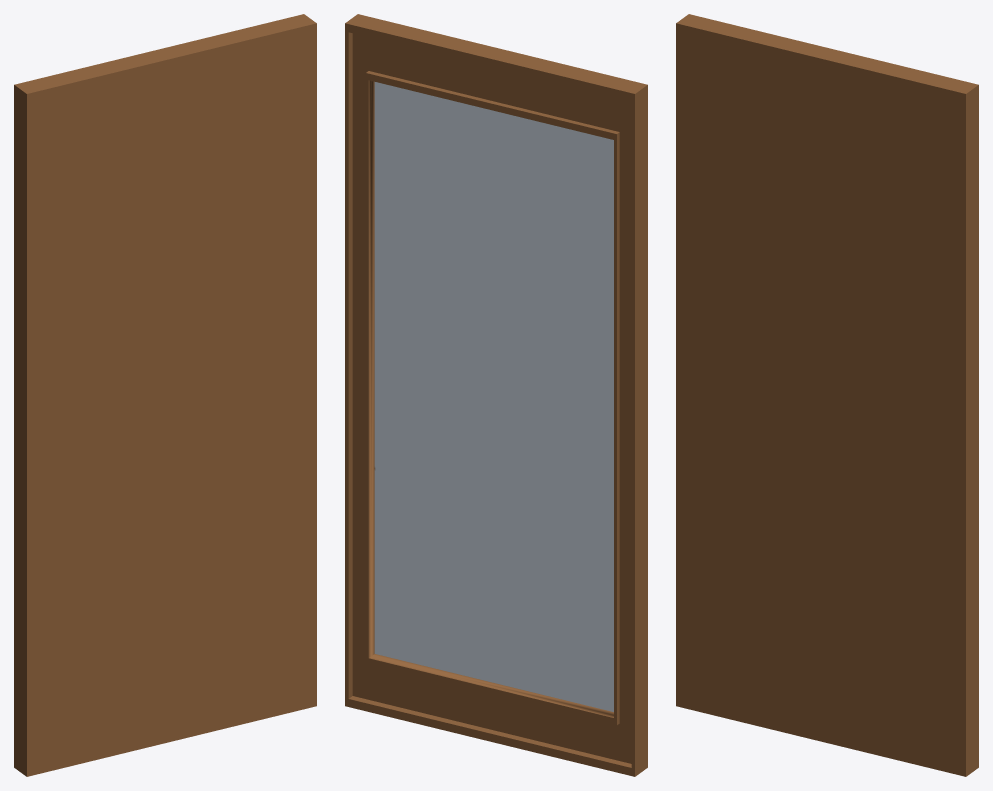
File: Mirror.fbx
3 renders of one model, left to right at view 1: azimuth 30°, elevation 25°; view 2: azimuth 150°, elevation 25°; view 3: azimuth 330°, elevation 25°, orthographic.
Parts seen in each view (by area): view 1: Wall_mirror; view 2: Wall_mirror; view 3: Wall_mirror.
Part boxes in pixels (bbox=[...]): Wall_mirror: bbox=[14, 14, 316, 776]; Wall_mirror: bbox=[345, 14, 647, 776]; Wall_mirror: bbox=[676, 14, 978, 776].
Size of the model in its own units: 4.48 by 10.08 by 0.3404.
